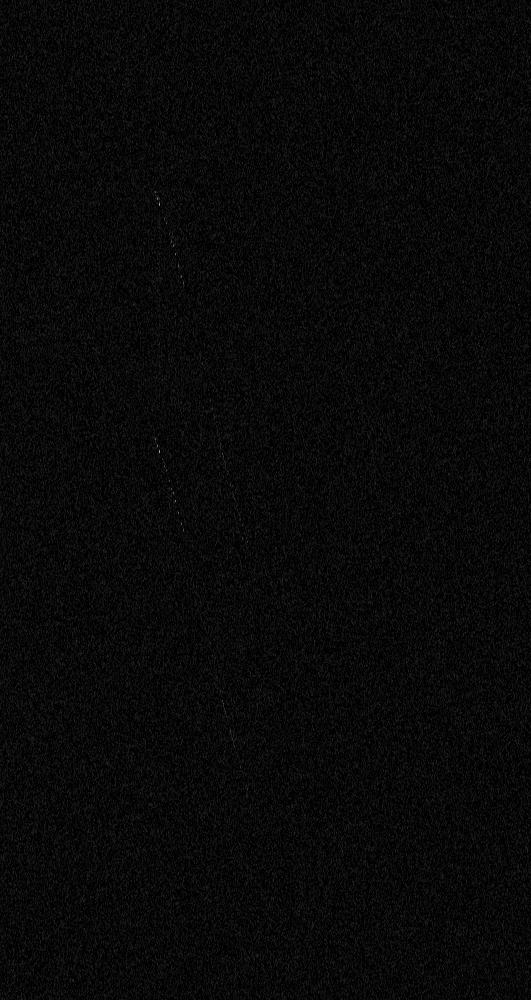signal: (0, 0, 530, 999)
